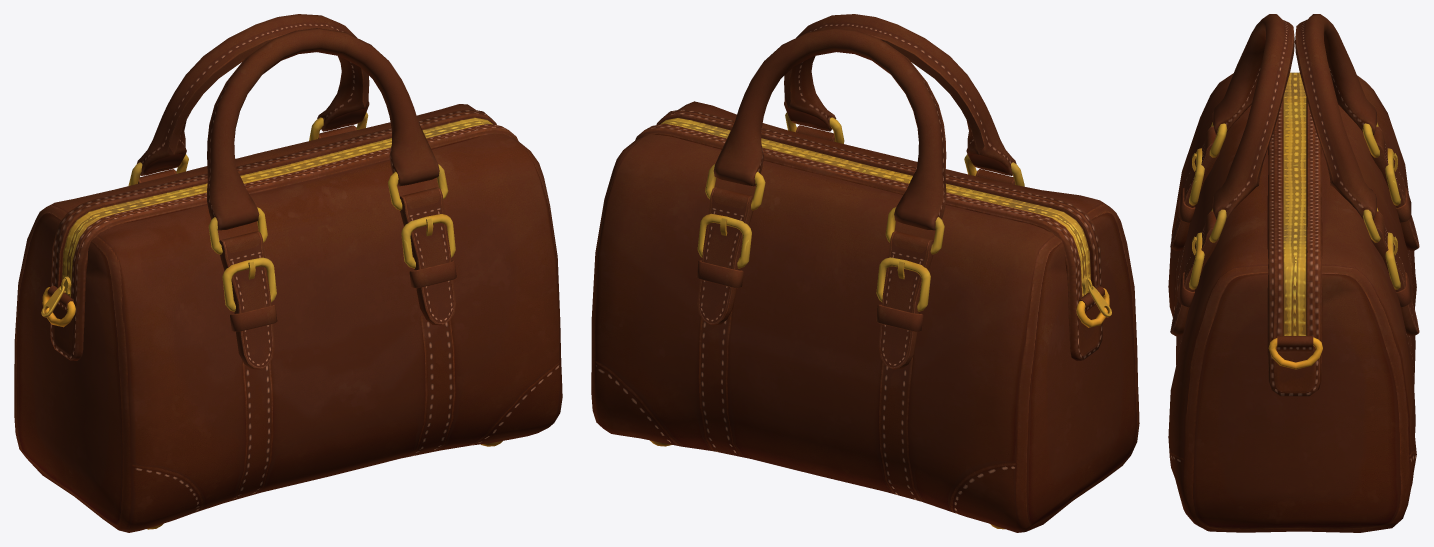
The model's file is Wealth_sg_sack.FBX.
3 renders of one model, left to right at view 1: azimuth 30°, elevation 25°; view 2: azimuth 150°, elevation 25°; view 3: azimuth 270°, elevation 25°, orthographic. The views are drawn at different scales.
Parts seen in each view (by area): view 1: Wealth_sg_sack; view 2: Wealth_sg_sack; view 3: Wealth_sg_sack.
Part boxes in pixels (<box>): Wealth_sg_sack: <box>14,14,562,532</box>; Wealth_sg_sack: <box>591,14,1139,532</box>; Wealth_sg_sack: <box>1168,14,1419,532</box>.
Size of the model in its own units: 61.73 by 53.23 by 28.84.
1 material, 1 textured.
